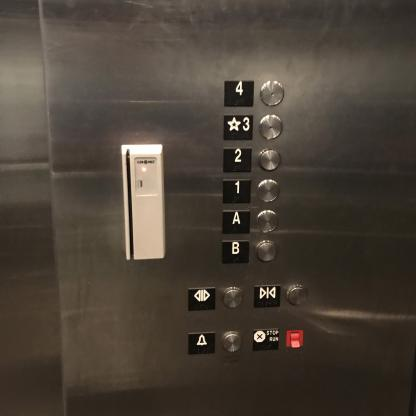1: (222, 178, 252, 204)
2: (222, 146, 252, 174)
4: (223, 79, 254, 107)
A: (221, 209, 251, 235)
B: (221, 239, 250, 265)
alarm: (188, 331, 216, 355)
close: (253, 283, 281, 309)
indicator: (257, 114, 284, 140), (259, 80, 285, 107), (257, 147, 283, 172), (254, 239, 279, 264), (256, 178, 281, 202), (255, 210, 279, 234), (285, 284, 308, 306), (221, 287, 244, 309), (221, 330, 243, 353)
open: (186, 287, 216, 312)
s3: (223, 114, 253, 142)
stop: (252, 328, 280, 352)
